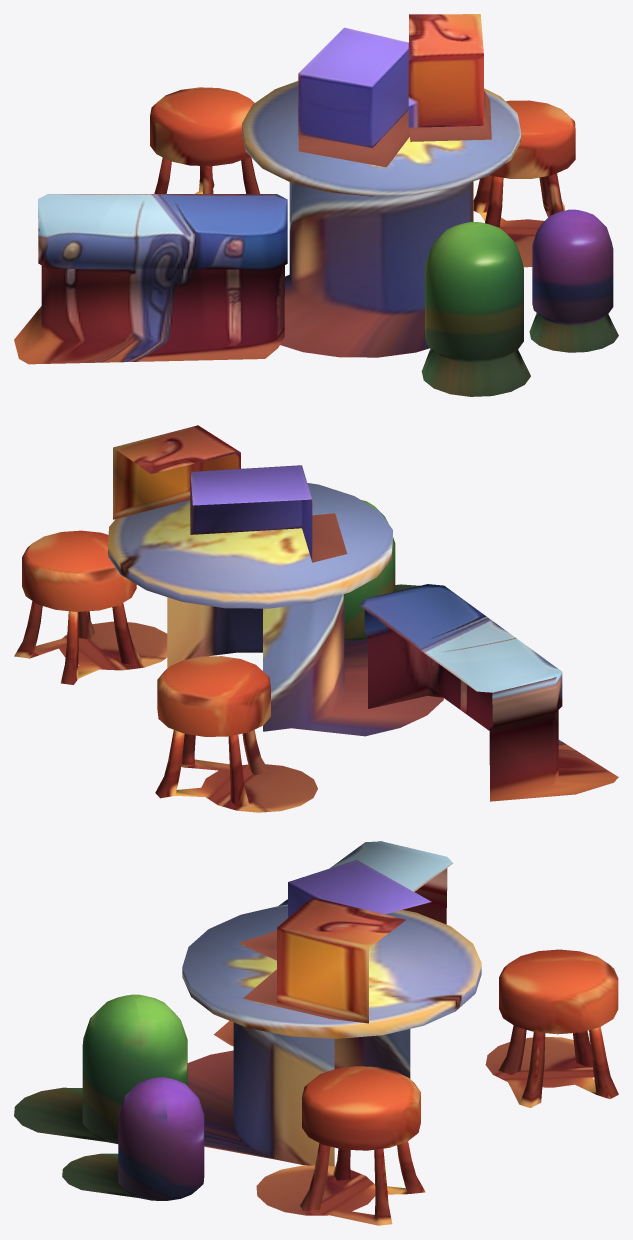
File: stage_01_3.fbx
3 renders of one model, top to bottom at view 1: azimuth 30°, elevation 25°; view 2: azimuth 150°, elevation 25°; view 3: azimuth 270°, elevation 25°, orthographic. The views are drawn at different scales.
Visible parts, largest first — view 1: 3_5, 3_1, 3_4, 3_6, 3_2, 3_3; view 2: 3_1, 3_5, 3_6, 3_2, 3_3, 3_4; view 3: 3_1, 3_4, 3_6, 3_3, 3_2, 3_5.
Part boxes in pixels (x1=…): 3_5: x1=14, y1=194, x2=287, y2=364; 3_1: x1=242, y1=81, x2=520, y2=357; 3_4: x1=421, y1=209, x2=618, y2=396; 3_6: x1=298, y1=14, x2=491, y2=167; 3_2: x1=150, y1=87, x2=259, y2=193; 3_3: x1=473, y1=100, x2=575, y2=267; 3_1: x1=108, y1=483, x2=443, y2=736; 3_5: x1=359, y1=584, x2=618, y2=801; 3_6: x1=113, y1=425, x2=347, y2=562; 3_2: x1=155, y1=656, x2=317, y2=812; 3_3: x1=14, y1=530, x2=167, y2=684; 3_4: x1=344, y1=500, x2=419, y2=641; 3_1: x1=182, y1=905, x2=481, y2=1166; 3_4: x1=14, y1=994, x2=204, y2=1200; 3_6: x1=239, y1=860, x2=431, y2=1023; 3_3: x1=256, y1=1066, x2=425, y2=1225; 3_2: x1=485, y1=949, x2=618, y2=1107; 3_5: x1=214, y1=841, x2=453, y2=1046.
Bounding box in the file's own units: 301 × 115 × 262.
